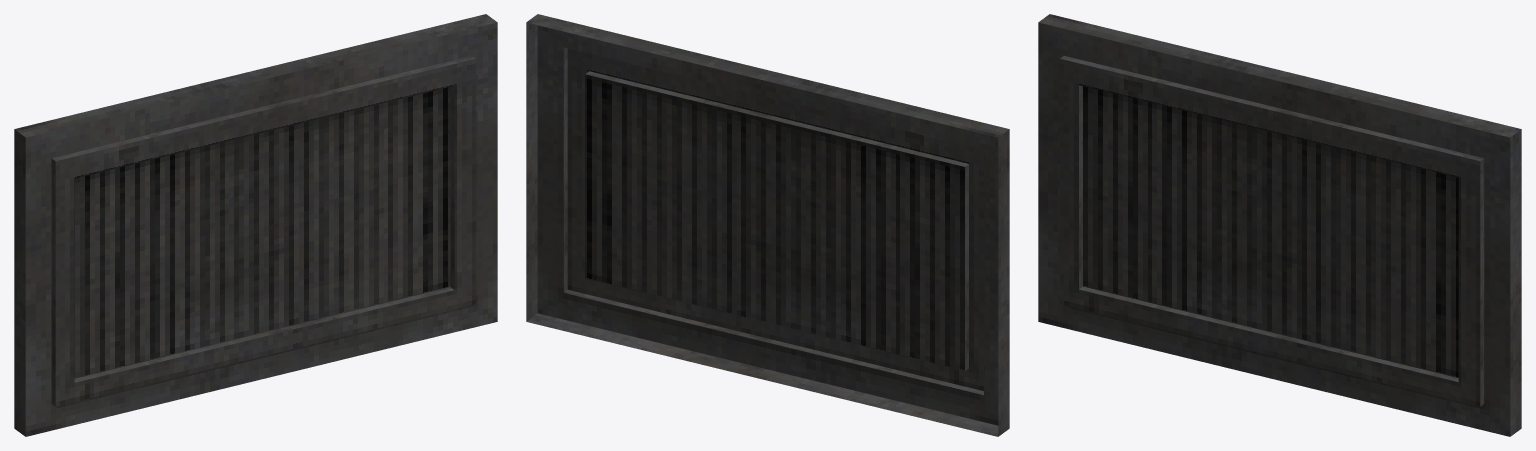
Rendered from vent_mp_1_1.glb.
The picture shows the model from 3 angles, left to right: view 1: azimuth 30°, elevation 25°; view 2: azimuth 150°, elevation 25°; view 3: azimuth 330°, elevation 25°; orthographic projection.
Parts seen in each view (by area): view 1: vent_mp_1_1; view 2: vent_mp_1_1; view 3: vent_mp_1_1.
Boxes of the visible parts, <box> form: vent_mp_1_1: <box>14,14,497,436</box>; vent_mp_1_1: <box>526,14,1009,436</box>; vent_mp_1_1: <box>1038,14,1521,436</box>.
Bounding box in the file's own units: 0.33 × 0.2 × 0.019.
Materials: 1 (1 with a texture image).
